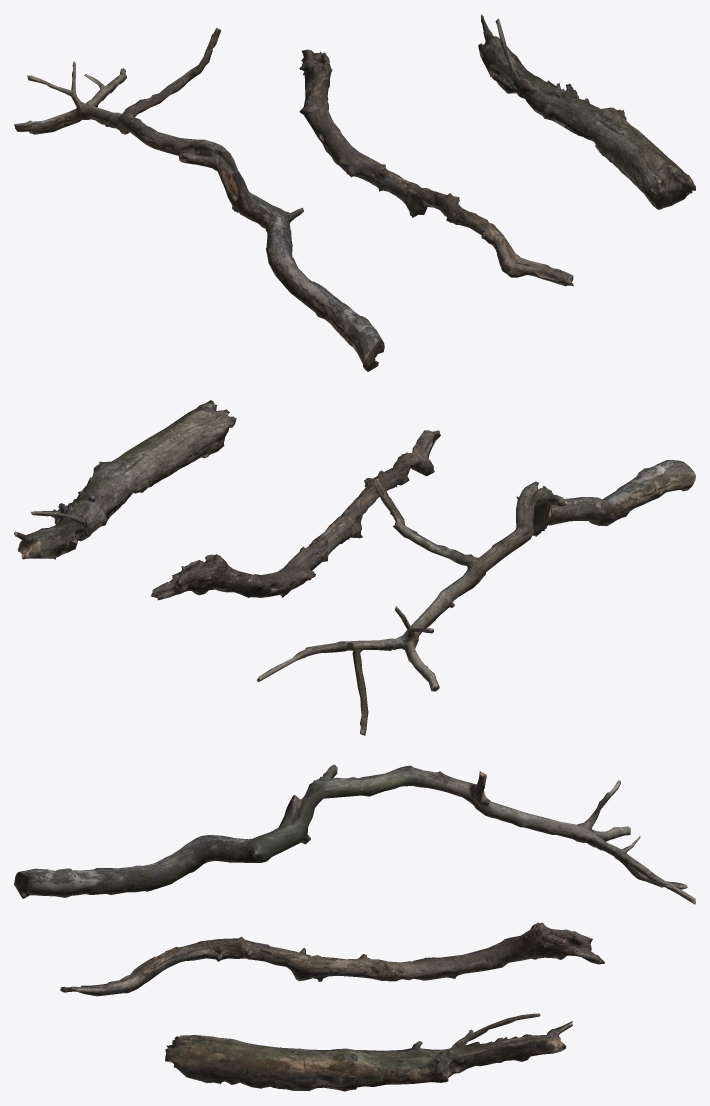
File: p_branches.glb
3 views of the same model, one above another, from view 1: azimuth 30°, elevation 25°; view 2: azimuth 150°, elevation 25°; view 3: azimuth 270°, elevation 25° (orthographic). The views are drawn at different scales.
Visible parts, largest first — view 1: dry_branches_medium_01_c; view 2: dry_branches_medium_01_c; view 3: dry_branches_medium_01_c.
Part boxes in pixels (left/top/right/bottom): dry_branches_medium_01_c: left=14, top=14, right=695, bottom=371; dry_branches_medium_01_c: left=14, top=400, right=695, bottom=735; dry_branches_medium_01_c: left=14, top=764, right=695, bottom=1091.
Bounding box in the file's own units: 1.06 × 0.341 × 1.3.
1 material, 1 textured.
